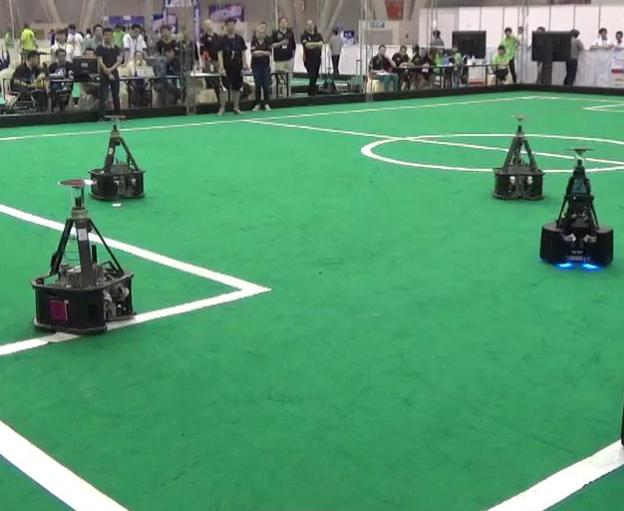robot: (23, 177, 144, 335), (536, 144, 616, 270), (83, 110, 150, 204), (491, 109, 547, 204)
